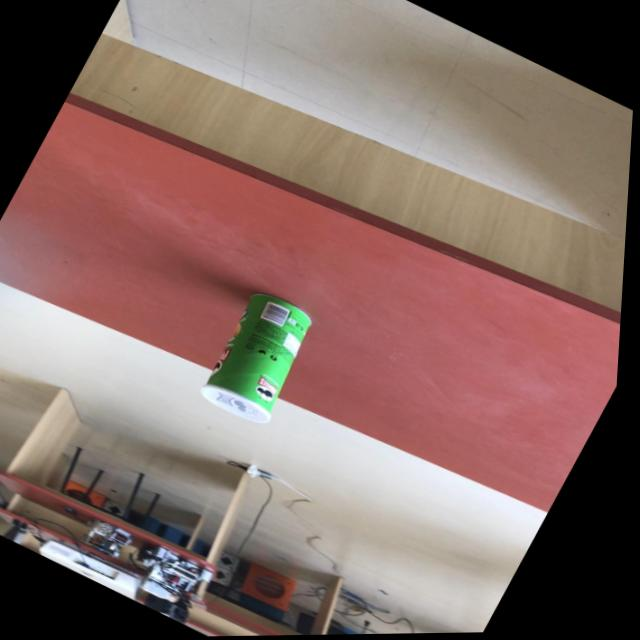a pringles: (197, 286, 332, 433)
